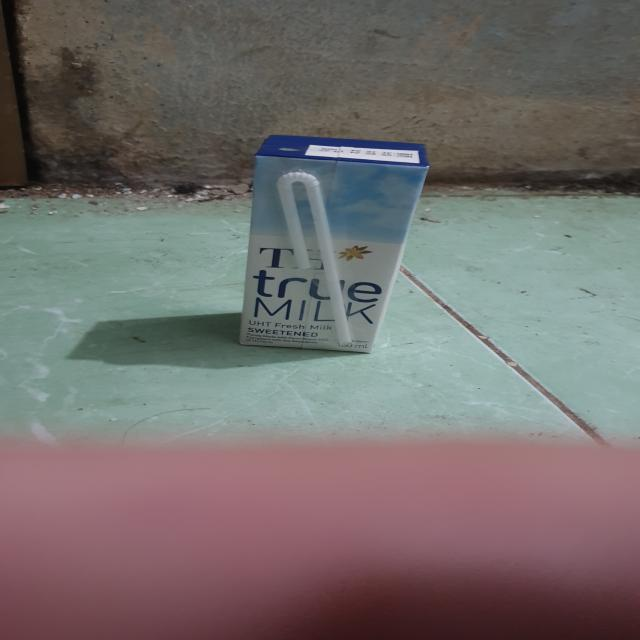TH: (242, 133, 430, 354)
